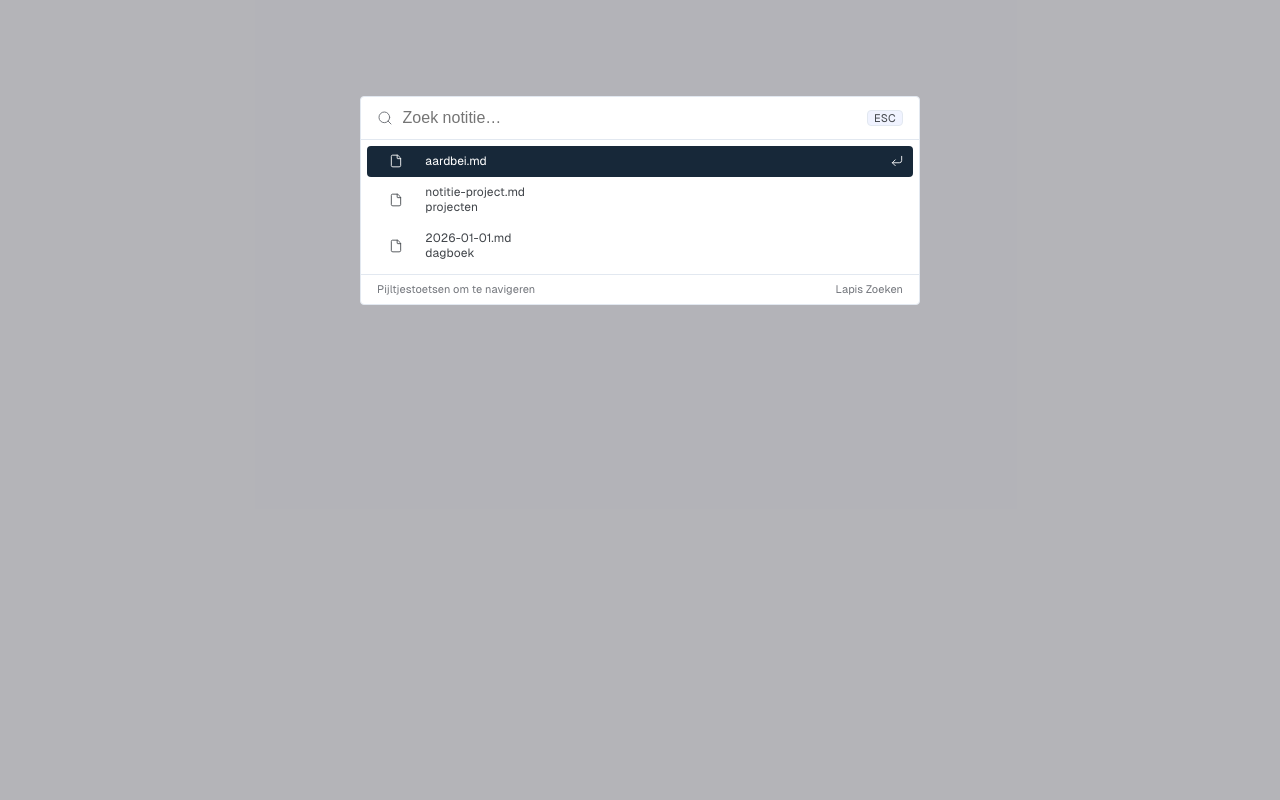
Test case: QuickSwitcher › toont een lege-staat-bericht als niets matcht
Type "xyz123" into the field with placeholder "Zoek notitie…".
click(630, 118); type("xyz123")  # box [403,97,857,139]
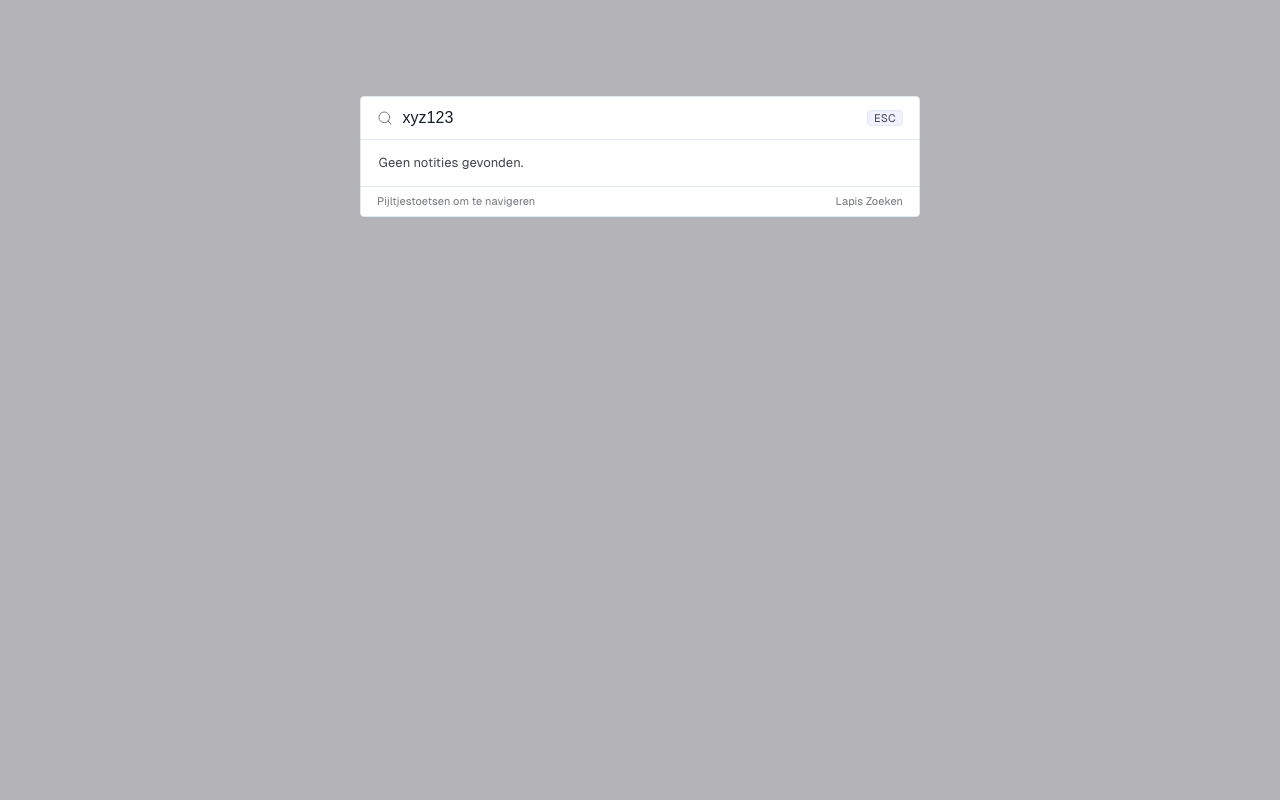
expect the list item "Geen notities gevonden." is shown: met, box [379,155,523,170]
expect no options are shown: met
